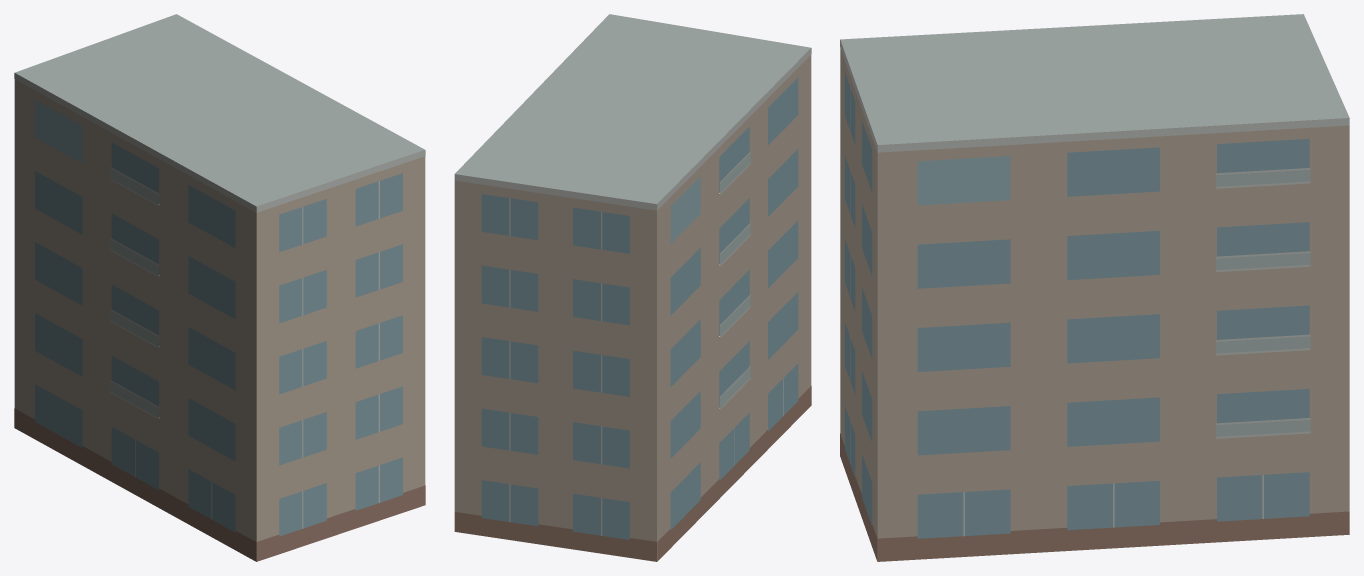
File: survey-upis-32998912.glb
The picture shows the model from 3 angles, left to right: view 1: azimuth 30°, elevation 25°; view 2: azimuth 150°, elevation 25°; view 3: azimuth 270°, elevation 25°; orthographic projection. The views are drawn at different scales.
Parts seen in each view (by area): view 1: survey-upis-32998912.tmp; view 2: survey-upis-32998912.tmp; view 3: survey-upis-32998912.tmp.
Boxes of the visible parts, left/top/right/bottom form: survey-upis-32998912.tmp: left=14, top=14, right=425, bottom=561; survey-upis-32998912.tmp: left=454, top=14, right=811, bottom=561; survey-upis-32998912.tmp: left=840, top=14, right=1349, bottom=561.
Size of the model in its own units: 9.12 by 13.5 by 14.97.
